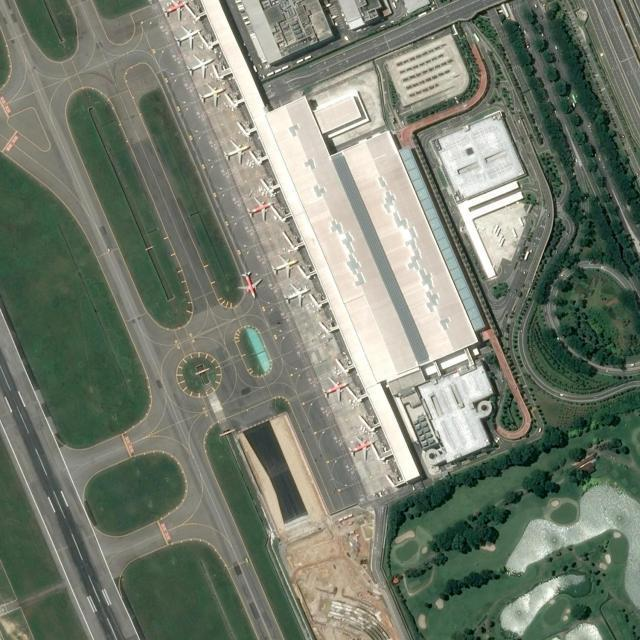Aircraft: (236, 270, 264, 300), (188, 53, 216, 78), (324, 375, 350, 401), (175, 24, 201, 48), (273, 254, 299, 278), (285, 283, 311, 307), (349, 435, 375, 459), (199, 83, 226, 106), (227, 139, 251, 164), (250, 196, 275, 220), (164, 0, 189, 19)
